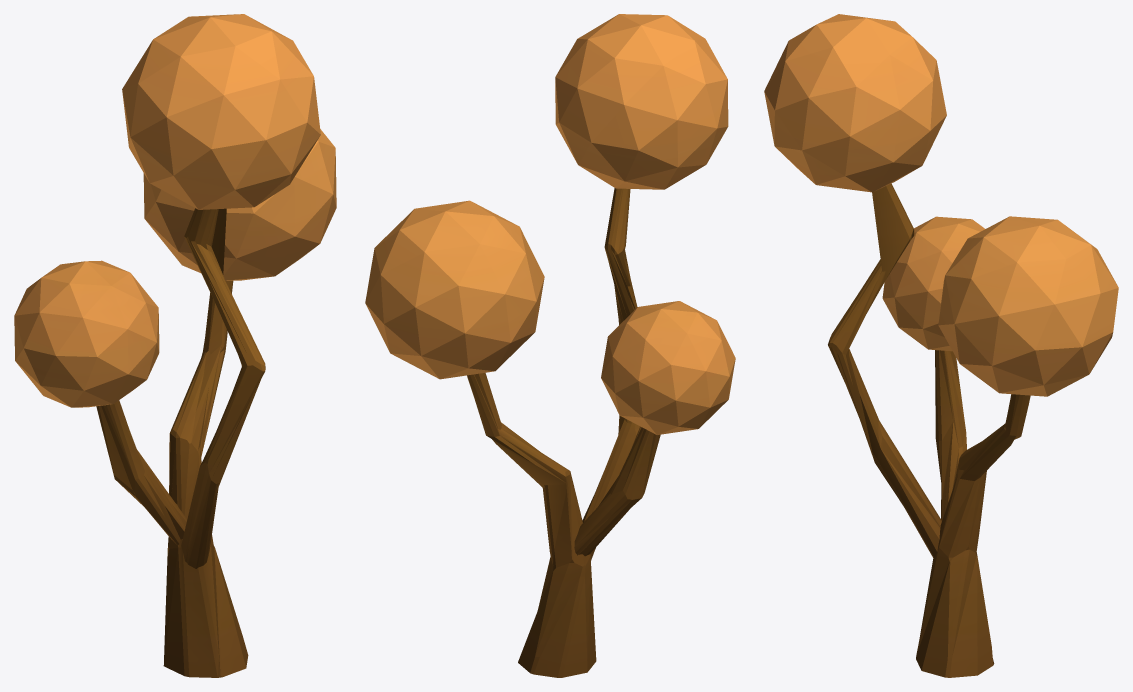
The model's file is tree_trio.glb.
3 views of the same model, side by side, from view 1: azimuth 30°, elevation 25°; view 2: azimuth 150°, elevation 25°; view 3: azimuth 270°, elevation 25° (orthographic). The views are drawn at different scales.
Parts seen in each view (by area): view 1: Poplar Tree_3_AA; view 2: Poplar Tree_3_AA; view 3: Poplar Tree_3_AA.
Part boxes in pixels (left/top/right/bottom): Poplar Tree_3_AA: left=14, top=14, right=336, bottom=677; Poplar Tree_3_AA: left=365, top=14, right=735, bottom=677; Poplar Tree_3_AA: left=764, top=14, right=1118, bottom=677.
Bounding box in the file's own units: 1.91 × 3.6 × 1.86.
1 material, 1 textured.
